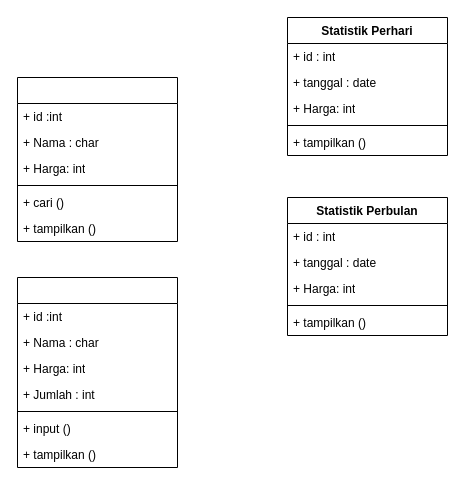
Some shapes in this 465 by 488 pixel diagram are drawn without their labels. Each missing label, with the box of its shape:
Menu: (16, 76, 178, 242)
Order: (16, 276, 178, 468)
